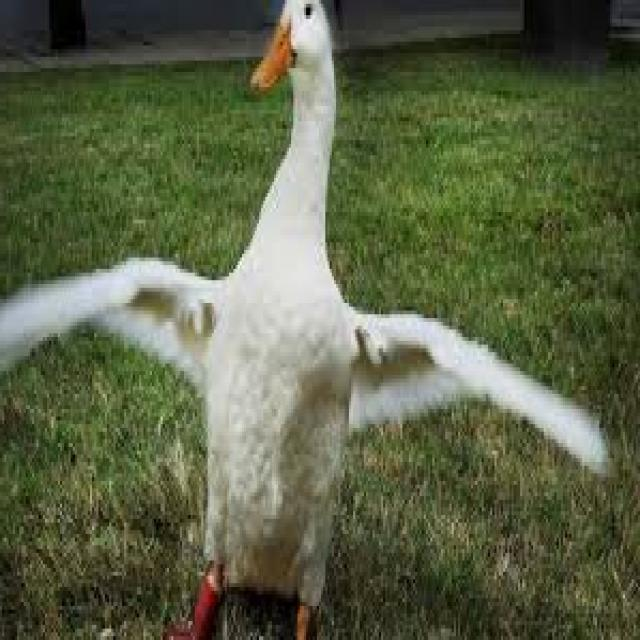duck: (2, 0, 608, 636)
